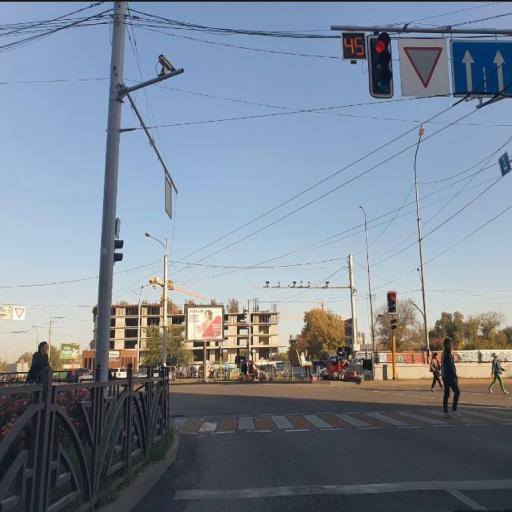closet: (171, 409, 511, 434)
ramp: (136, 382, 511, 511)
table: (368, 33, 393, 98), (387, 291, 397, 313)
